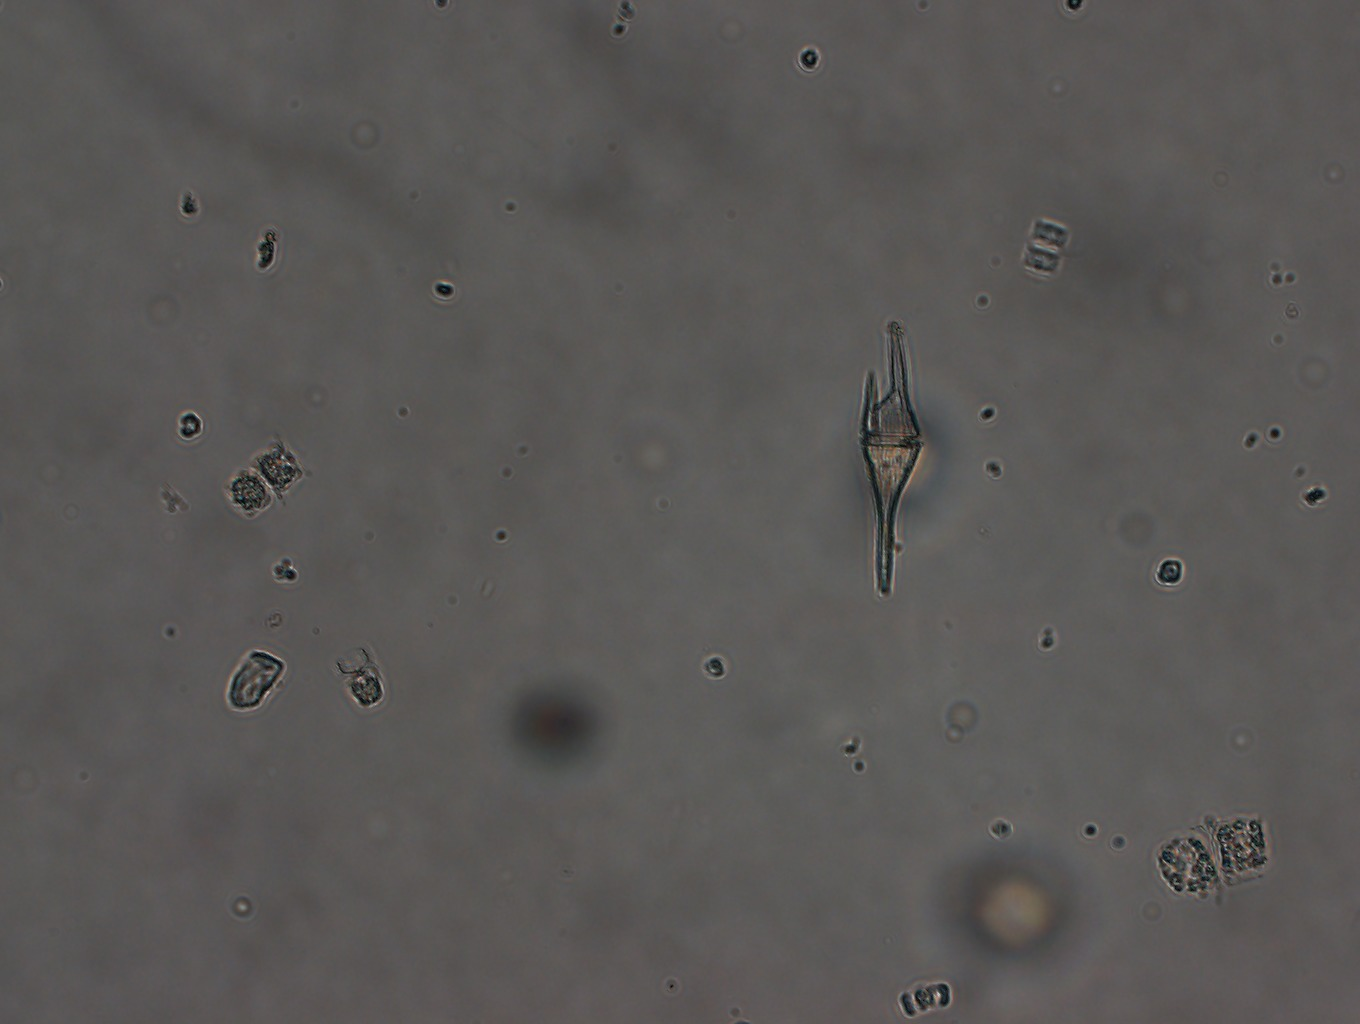thalassionema nitzschioides: (842, 315, 933, 600)
